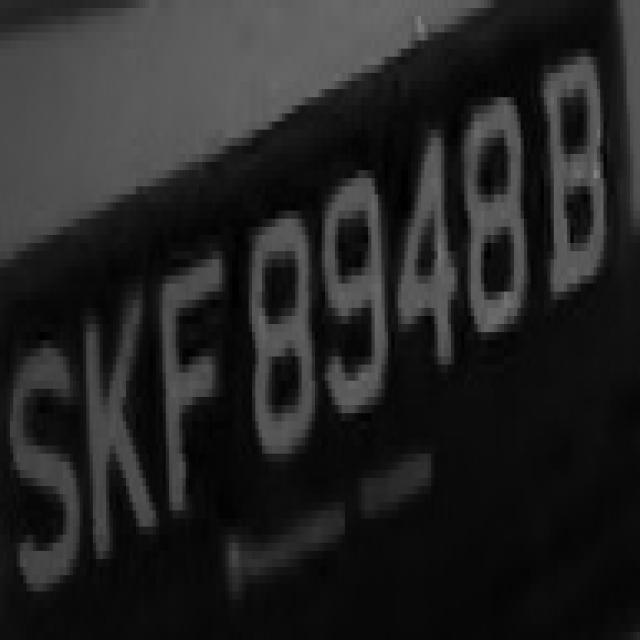4: (378, 154, 468, 413)
8: (454, 73, 540, 364), (232, 202, 322, 470)
9: (305, 170, 385, 438)
B: (541, 32, 620, 324)
F: (156, 259, 225, 535)
K: (73, 292, 159, 551)
S: (3, 324, 80, 608)
